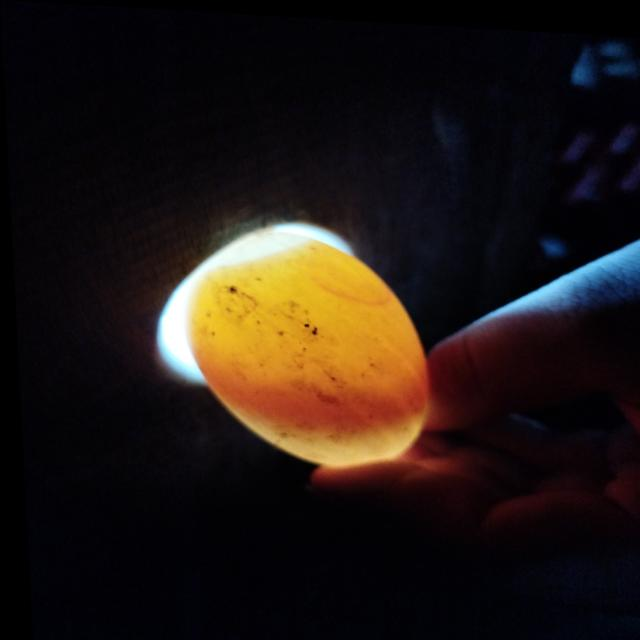Gema Quebrada: (195, 363, 421, 428)
